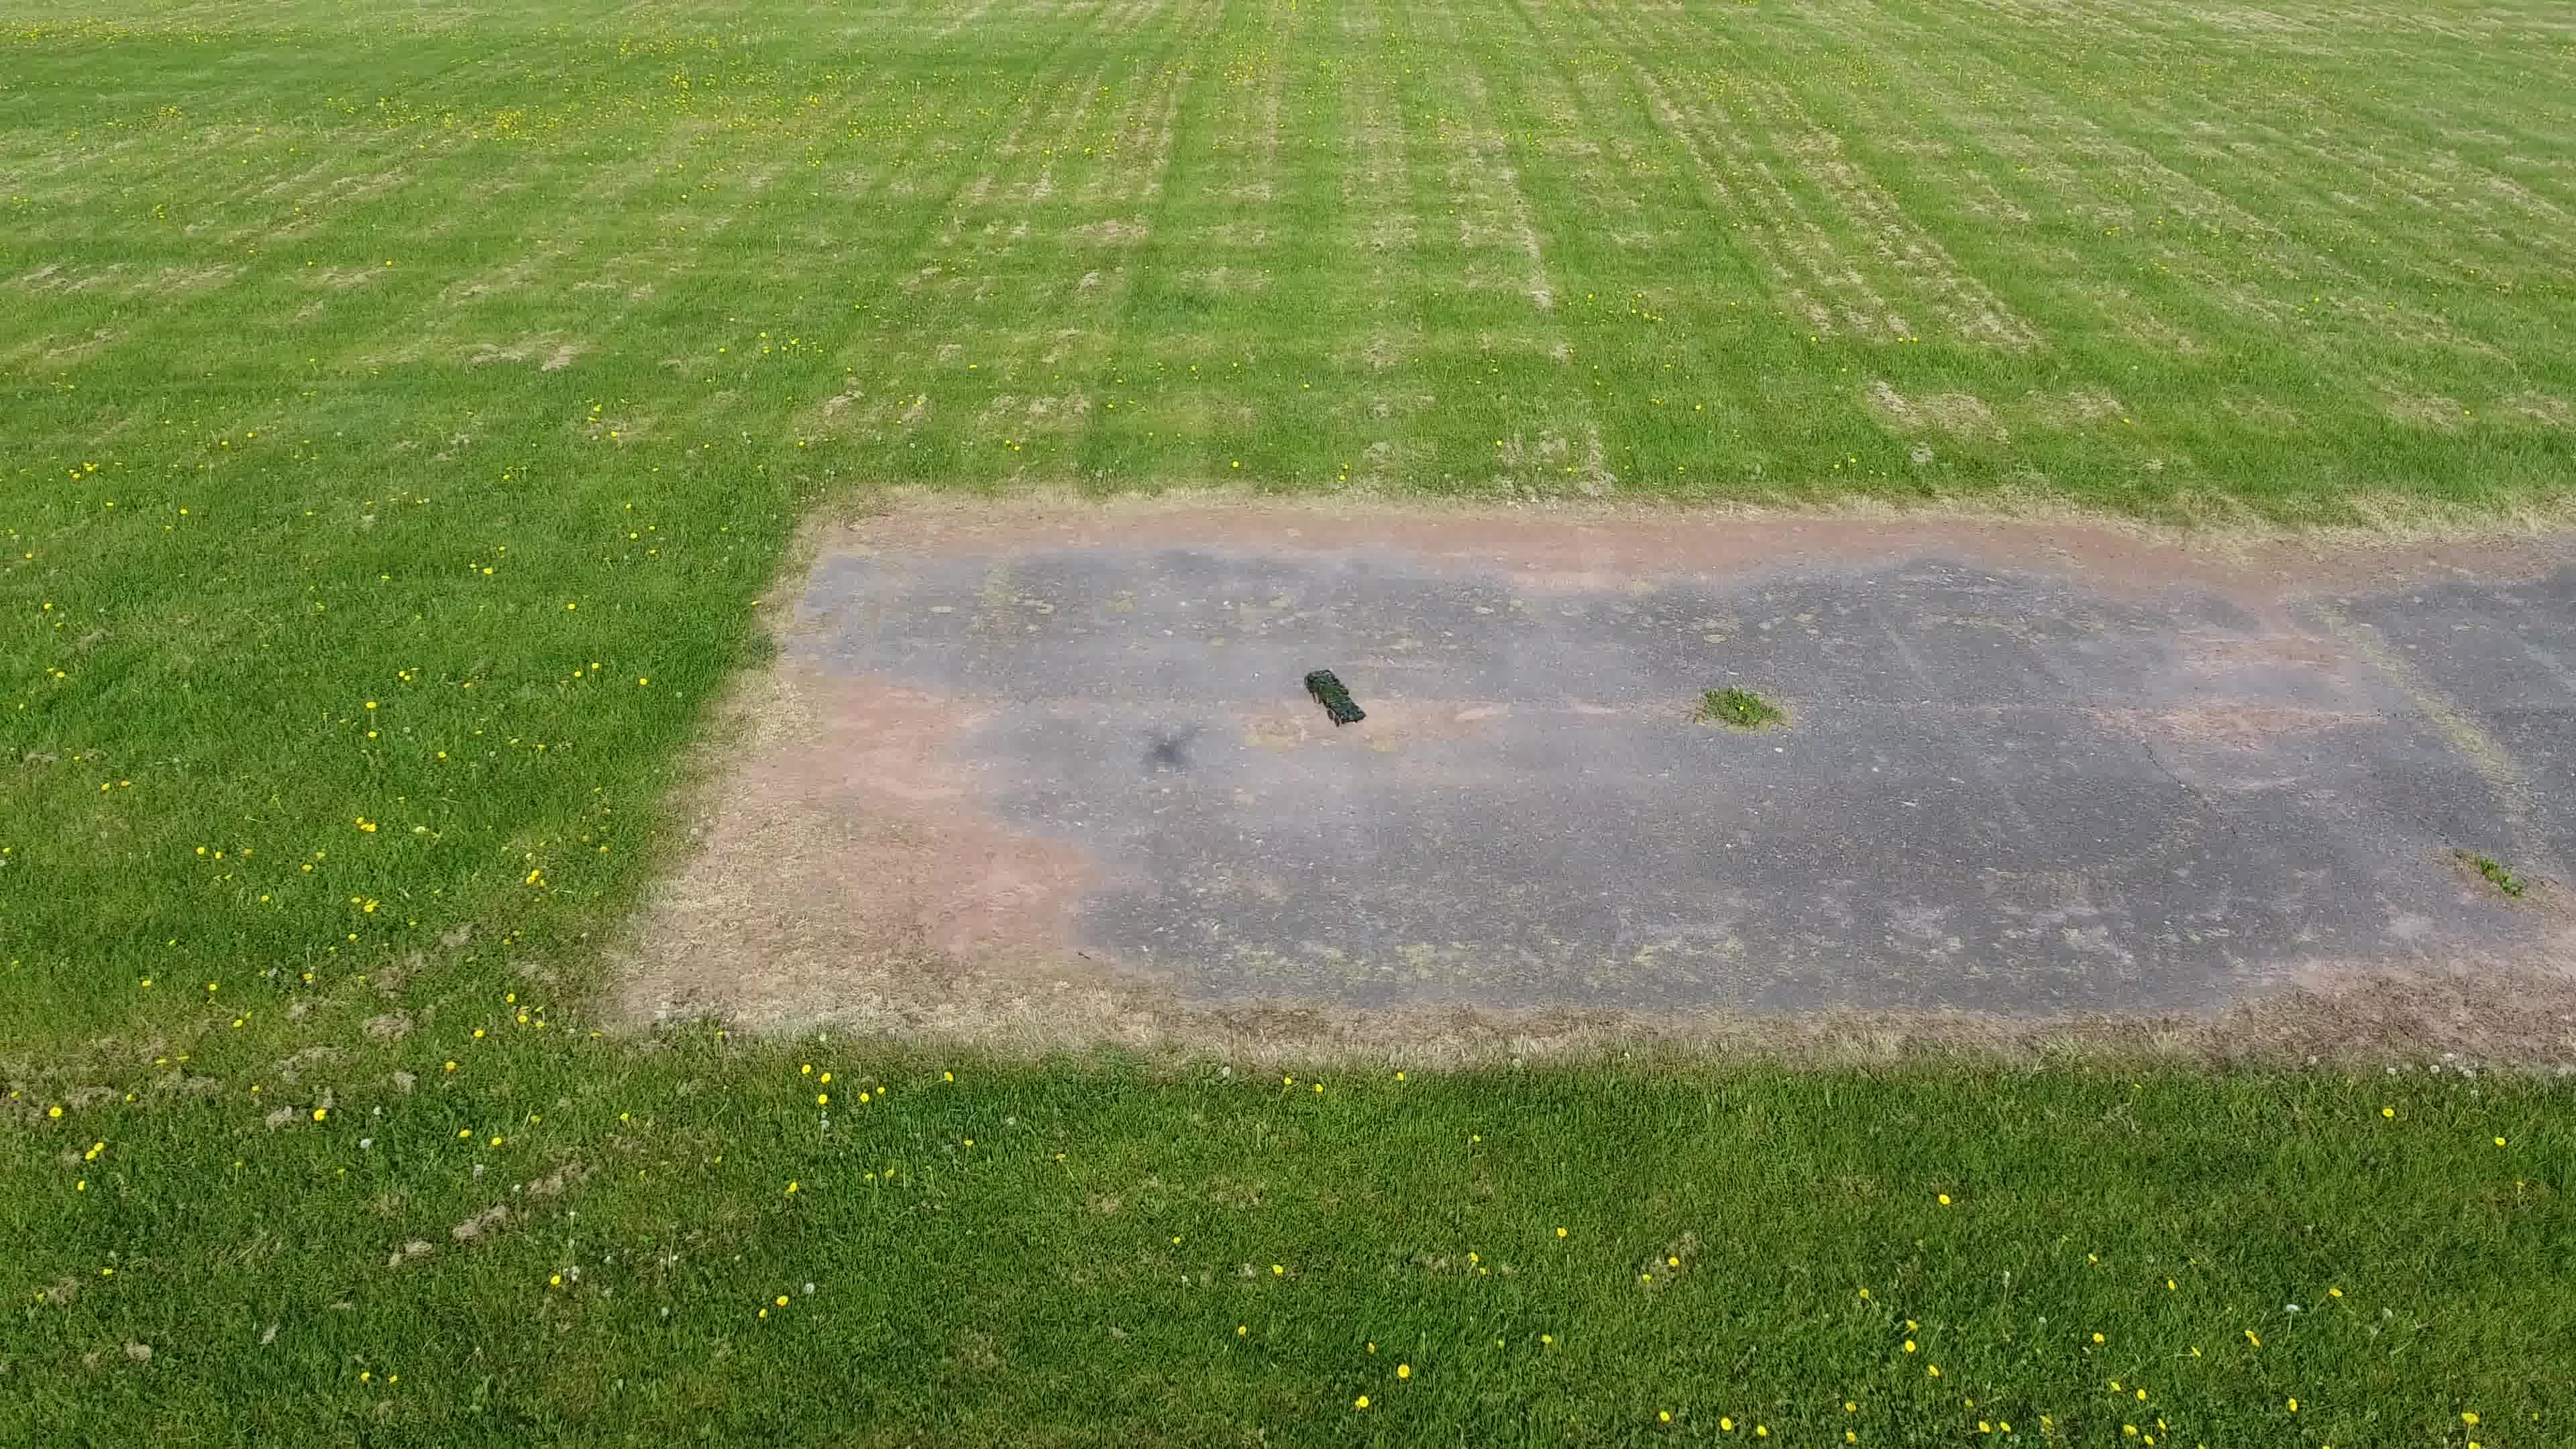transporter9_camo: (1300, 665, 1371, 731)
